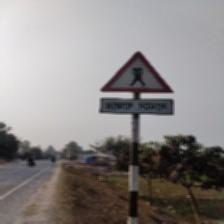Market-in-front: (98, 51, 175, 117)
